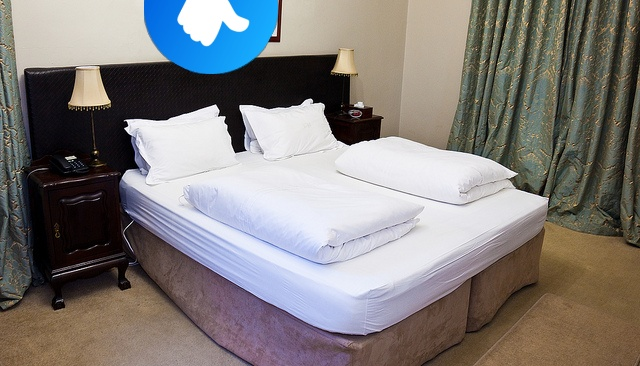like: (144, 0, 278, 74)
